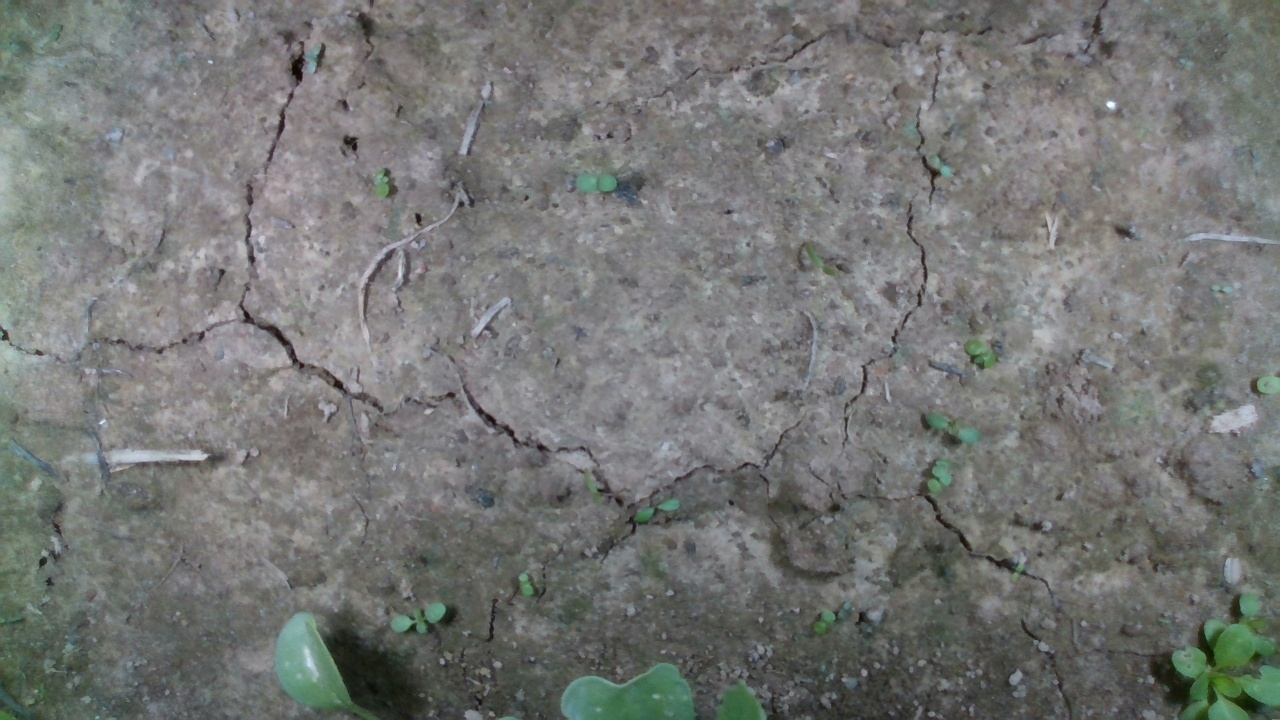weed: (388, 601, 447, 637), (631, 496, 683, 525), (574, 171, 619, 194), (300, 39, 323, 77), (369, 166, 391, 199), (811, 608, 835, 635), (516, 569, 535, 599)
